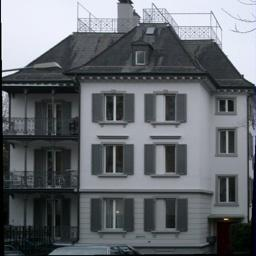building: (6, 0, 256, 244)
